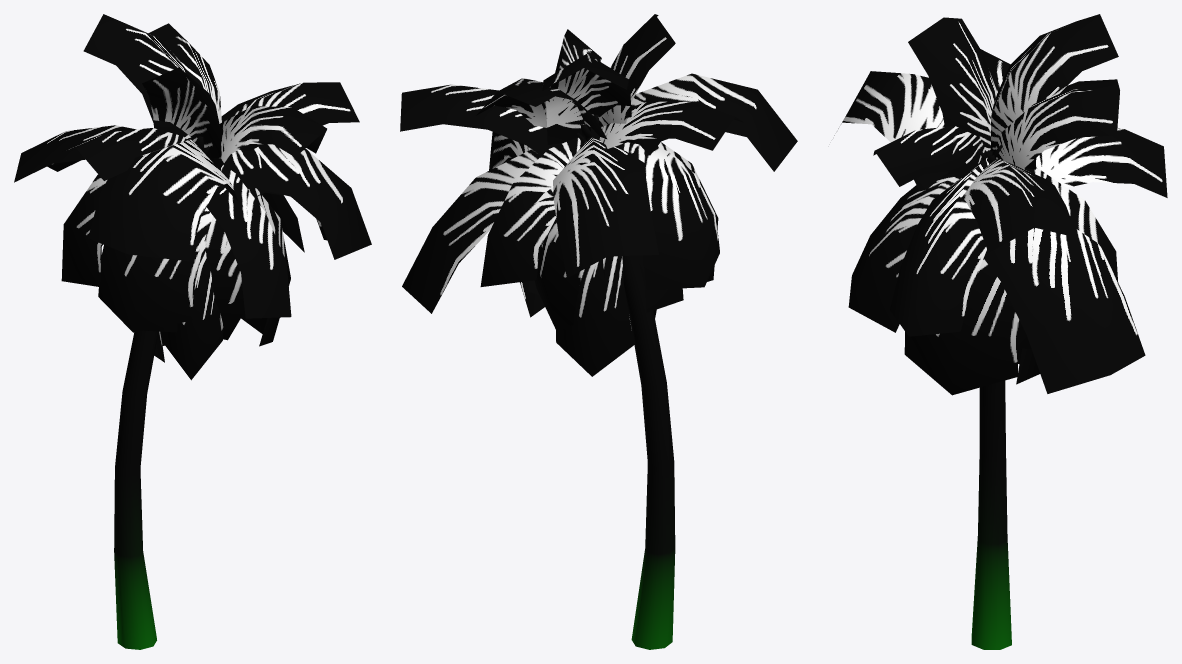
Rendered from P_CoconutPalmC02.obj.
3 views of the same model, side by side, from view 1: azimuth 30°, elevation 25°; view 2: azimuth 150°, elevation 25°; view 3: azimuth 270°, elevation 25° (orthographic). The views are drawn at different scales.
Bounding box in the file's own units: 5.32 × 9.76 × 4.74.
